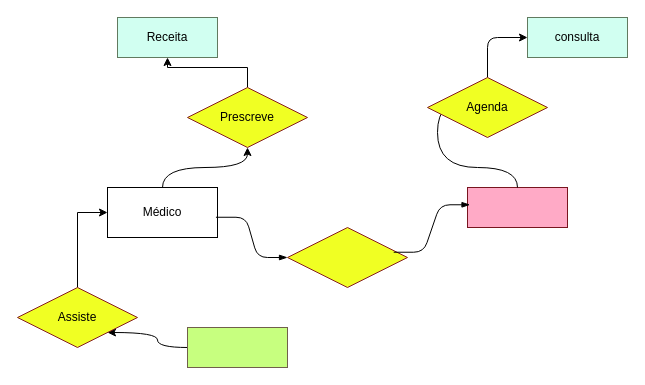
This 645x385 diagram has some shape labels left out. Each missing label, with the box of its shape:
Atende: (286, 226, 408, 288)
Enfermeiro: (186, 326, 288, 368)
Paciente: (466, 186, 568, 228)
